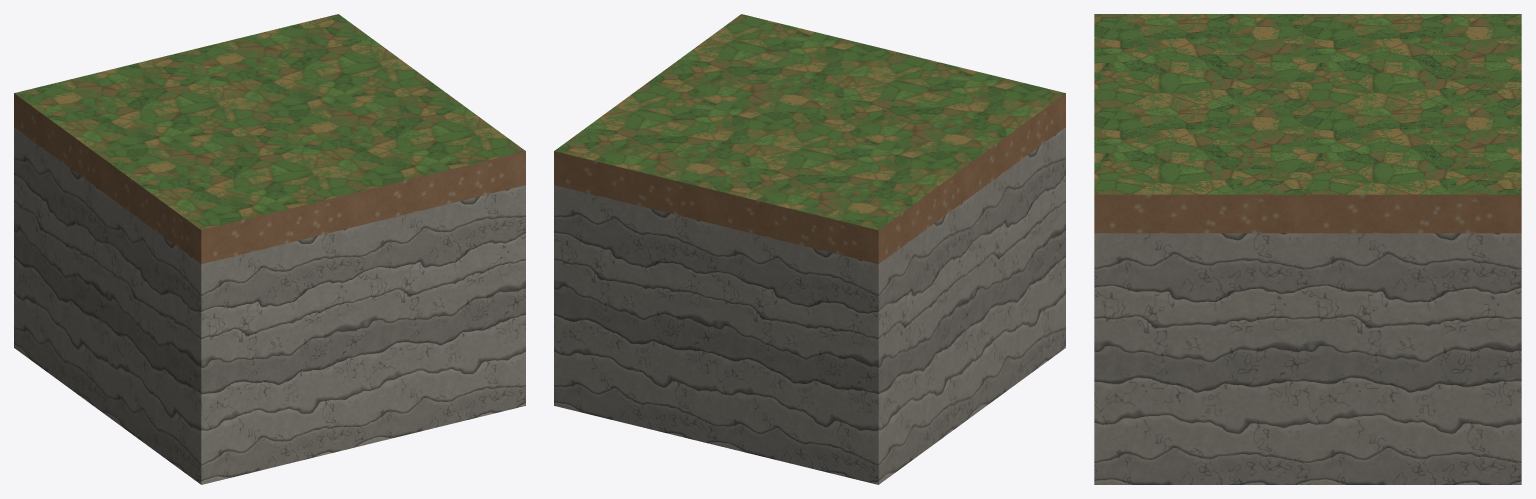
Rendered from Ground_Forest_U.fbx.
3 views of the same model, side by side, from view 1: azimuth 30°, elevation 25°; view 2: azimuth 150°, elevation 25°; view 3: azimuth 270°, elevation 25° (orthographic). The views are drawn at different scales.
Parts seen in each view (by area): view 1: Ground_Forest_U; view 2: Ground_Forest_U; view 3: Ground_Forest_U.
Boxes of the visible parts, x1=… form: Ground_Forest_U: x1=14, y1=14, x2=525, y2=484; Ground_Forest_U: x1=554, y1=14, x2=1065, y2=484; Ground_Forest_U: x1=1094, y1=14, x2=1521, y2=484.
Bounding box in the file's own units: 3 × 2.25 × 3.
Materials: 3 (3 with a texture image).
